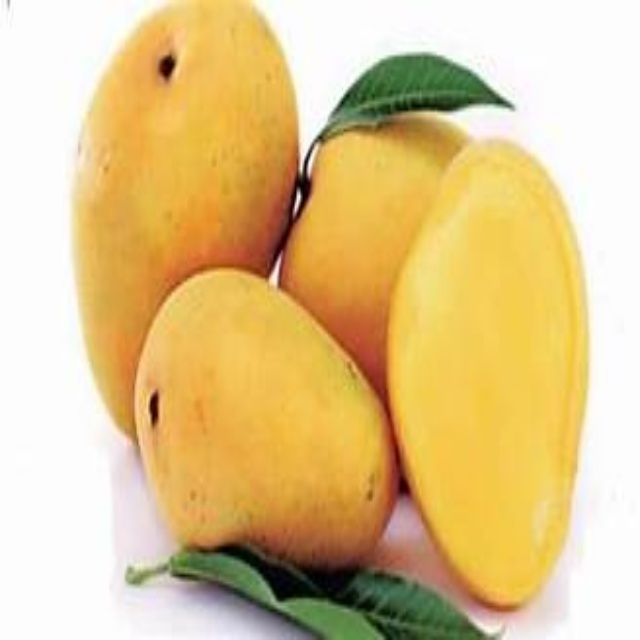mango: (389, 135, 602, 615), (78, 1, 290, 435), (137, 271, 413, 584), (276, 119, 484, 370)
